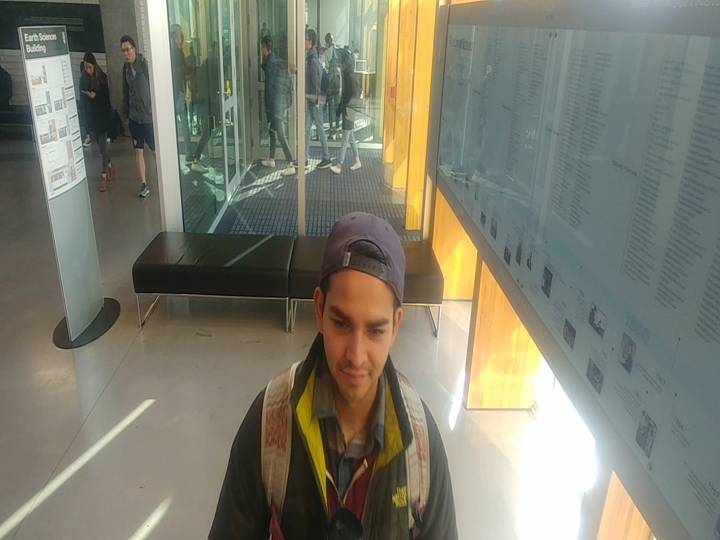face: (306, 205, 414, 414), (115, 29, 143, 68), (251, 32, 277, 62), (77, 48, 102, 78), (337, 47, 358, 75), (306, 26, 321, 55)
human: (198, 206, 464, 540), (115, 32, 159, 205), (73, 44, 120, 198), (252, 33, 297, 178), (329, 45, 364, 180), (304, 22, 333, 177)
